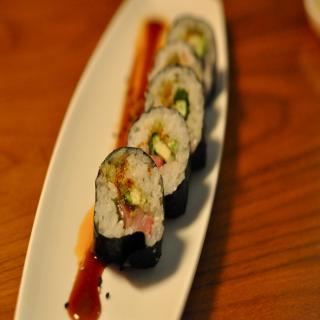Sushi: (93, 15, 218, 270), (91, 145, 166, 269)
